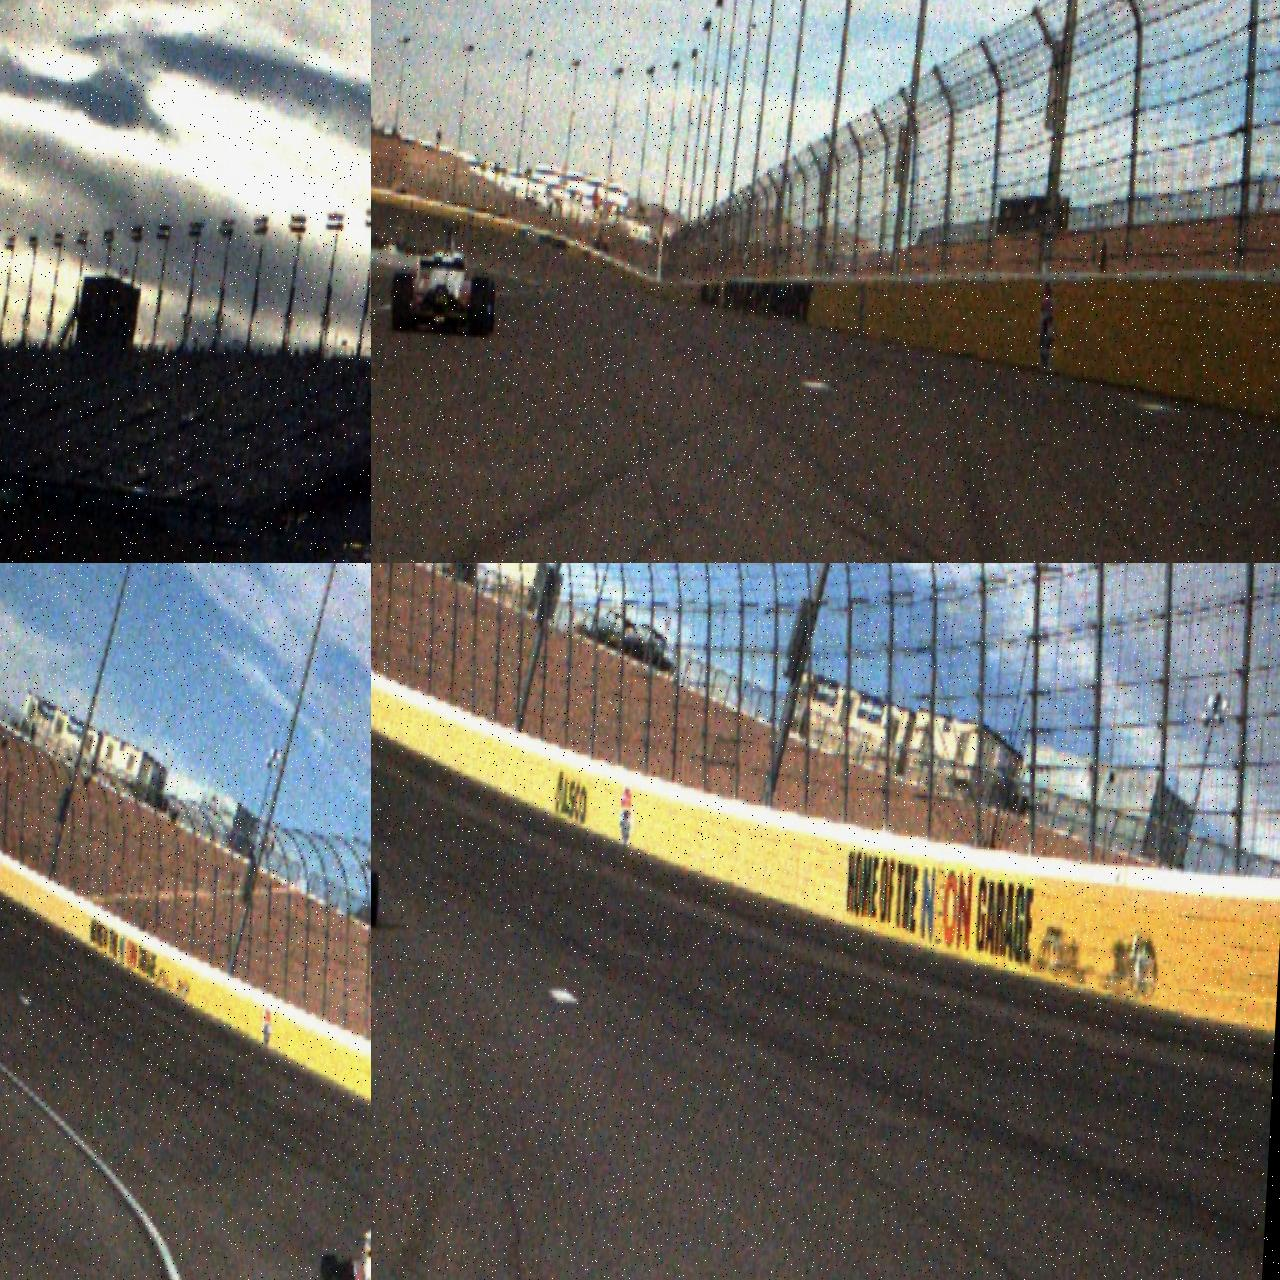AV: (389, 220, 499, 338), (315, 1194, 372, 1280)
Wheel: (390, 272, 416, 333), (468, 275, 490, 336), (316, 1253, 338, 1280), (327, 1261, 355, 1280), (372, 872, 379, 928)
